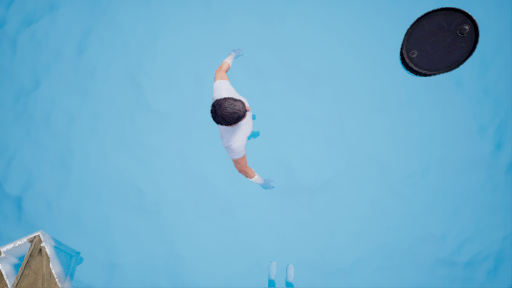person: (201, 52, 281, 209)
